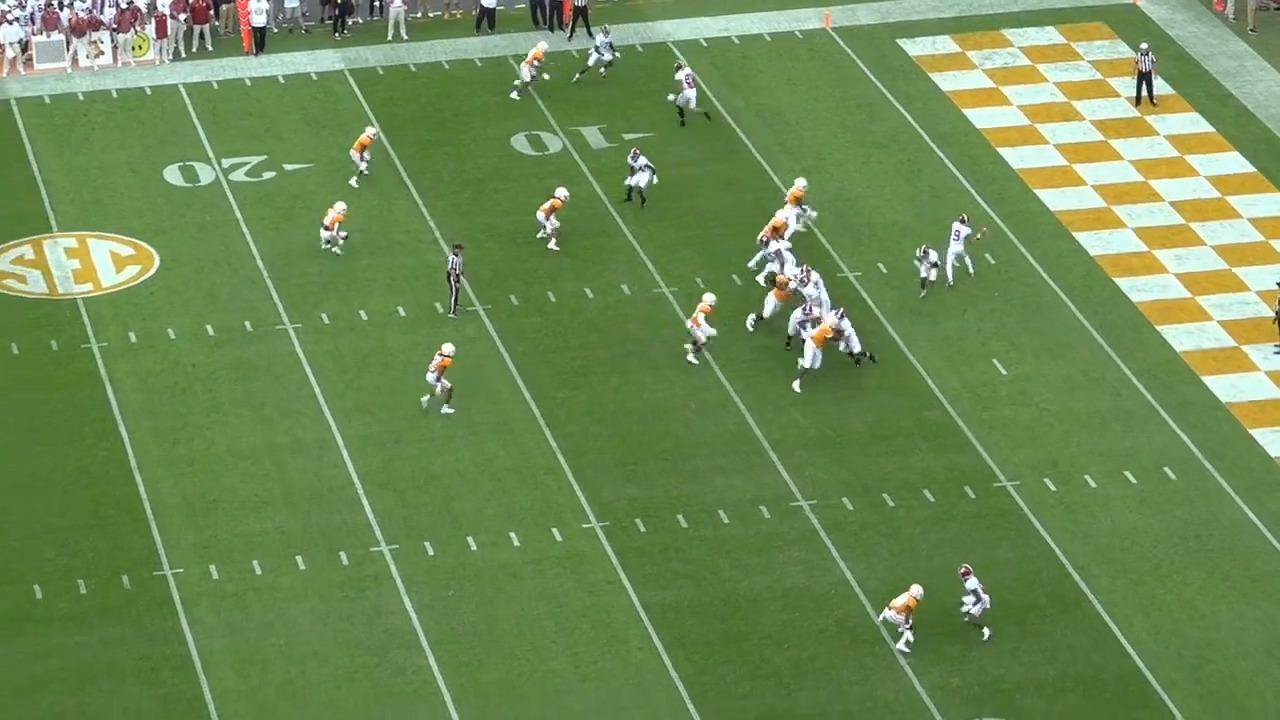player: (786, 311, 839, 395), (739, 269, 801, 337), (875, 581, 925, 663), (951, 560, 996, 645), (740, 203, 795, 272), (829, 305, 884, 370), (948, 211, 991, 290), (681, 289, 722, 370), (414, 341, 455, 421), (664, 58, 710, 129), (571, 28, 620, 89), (508, 40, 552, 105), (624, 144, 665, 209), (538, 185, 575, 256), (343, 120, 378, 189), (783, 299, 823, 356), (317, 197, 352, 260), (759, 236, 804, 285), (786, 176, 822, 237), (795, 262, 835, 313), (908, 241, 940, 302), (793, 275, 829, 319)
ref: (443, 239, 470, 319), (1132, 43, 1161, 115), (567, 1, 597, 47)
